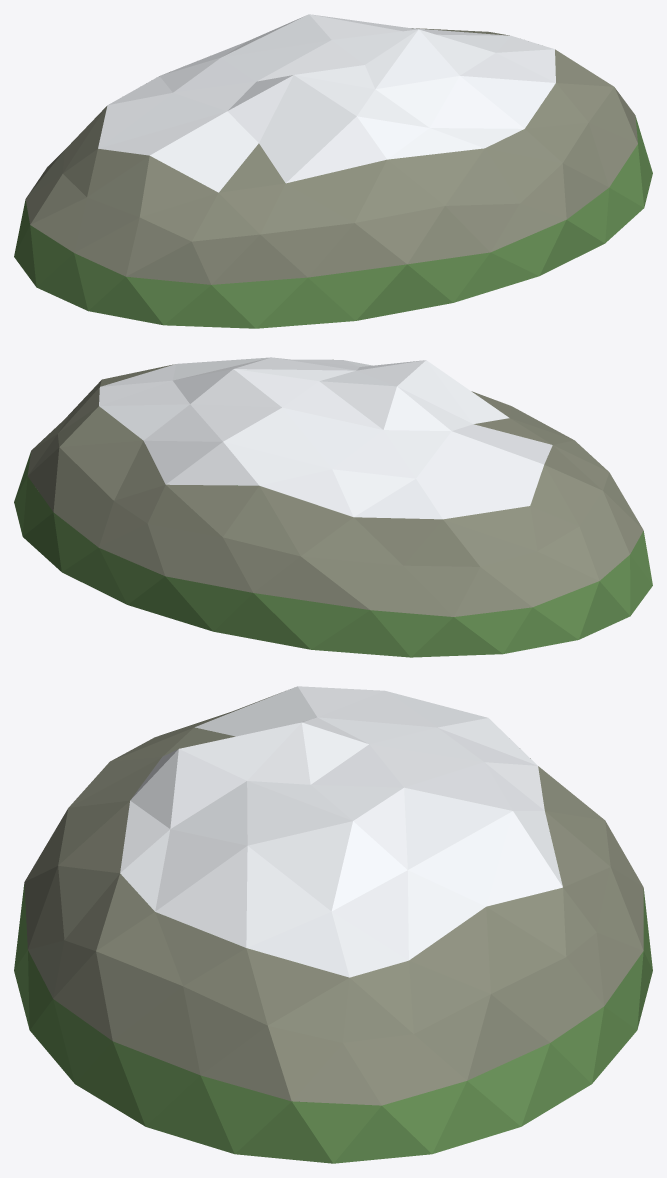
The model's file is scenery.glb.
3 renders of one model, top to bottom at view 1: azimuth 30°, elevation 25°; view 2: azimuth 150°, elevation 25°; view 3: azimuth 270°, elevation 25°, orthographic. The views are drawn at different scales.
Visible parts, largest first — view 1: mountain_snow; view 2: mountain_snow; view 3: mountain_snow.
Boxes of the visible parts, x1,y1,x2,y2 form: mountain_snow: (14,14,652,328); mountain_snow: (14,357,652,657); mountain_snow: (14,686,652,1163).
Bounding box in the file's own units: 360 × 93.8 × 252.
